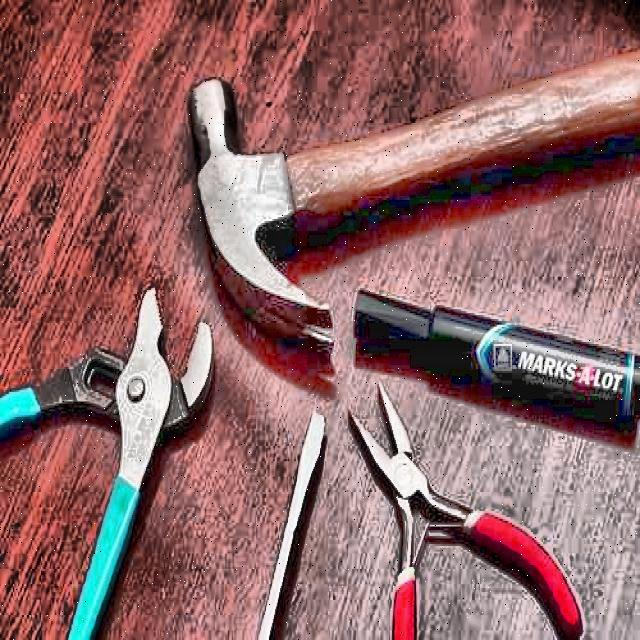hammer: (187, 74, 639, 363)
